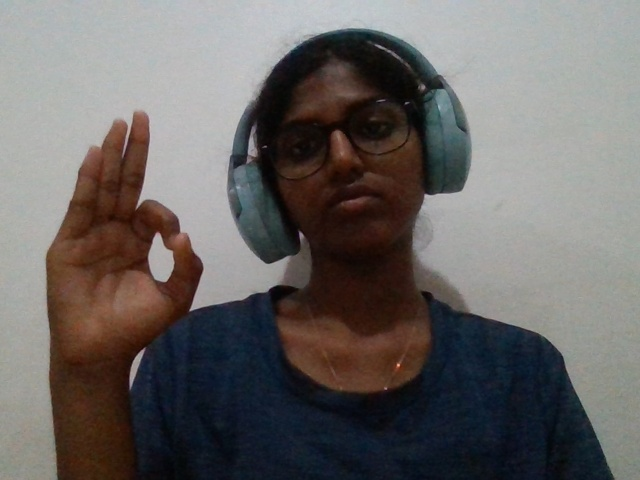F: (32, 96, 248, 480)
